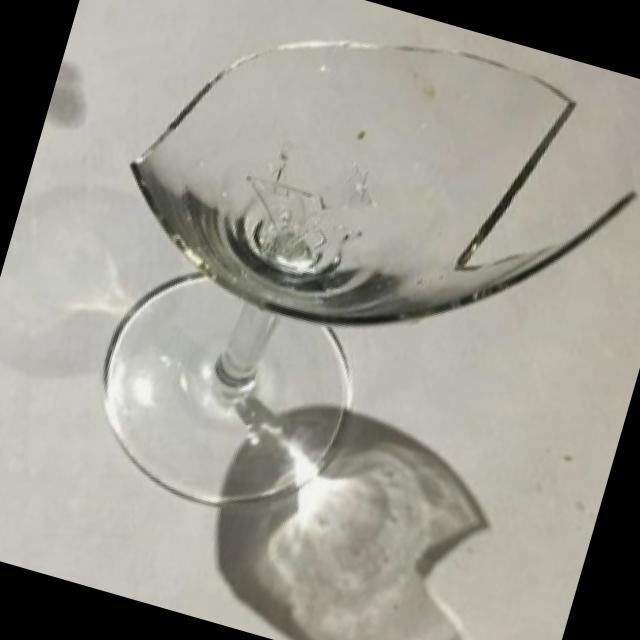PecahanKaca: (43, 0, 640, 596), (188, 380, 590, 640)
